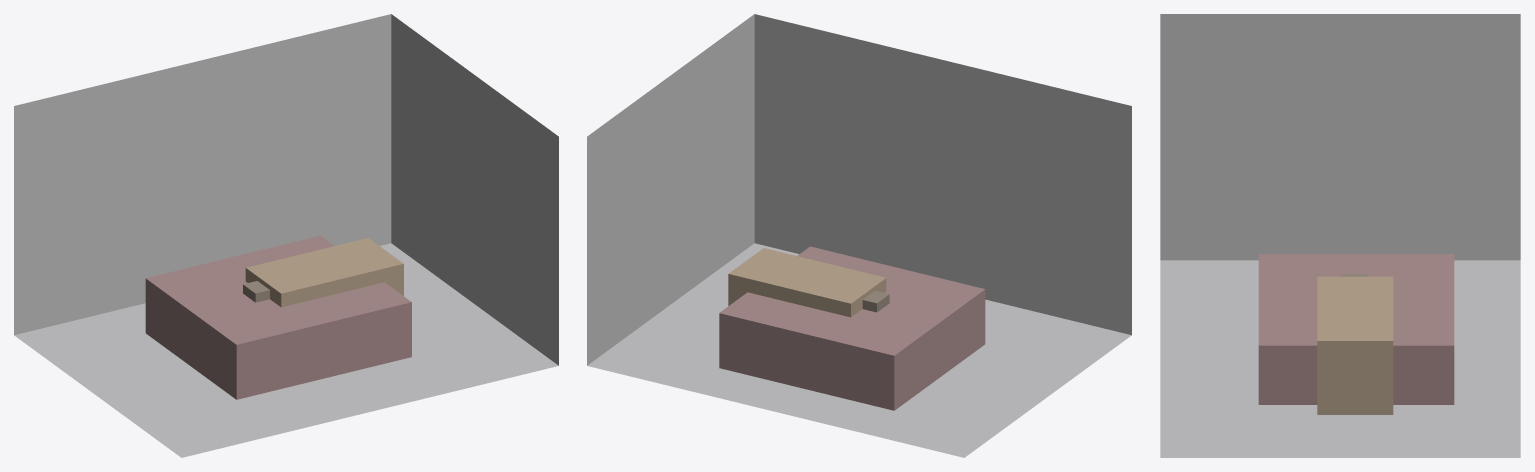
The model's file is current_layout.glb.
The picture shows the model from 3 angles, left to right: view 1: azimuth 30°, elevation 25°; view 2: azimuth 150°, elevation 25°; view 3: azimuth 270°, elevation 25°; orthographic projection. The views are drawn at different scales.
Visible parts, largest first — view 1: room, bed, desk; view 2: room, bed, desk; view 3: room, bed, desk.
Boxes of the visible parts, box(x1,y1,x2,y2) form: room: box(14, 14, 558, 457); bed: box(145, 235, 411, 399); desk: box(245, 238, 403, 307); room: box(587, 14, 1131, 457); bed: box(719, 246, 985, 410); desk: box(728, 248, 886, 317); room: box(1160, 14, 1520, 457); bed: box(1258, 254, 1454, 404); desk: box(1317, 276, 1393, 414).
Size of the model in its own units: 4.31 by 2.5 by 3.31.
